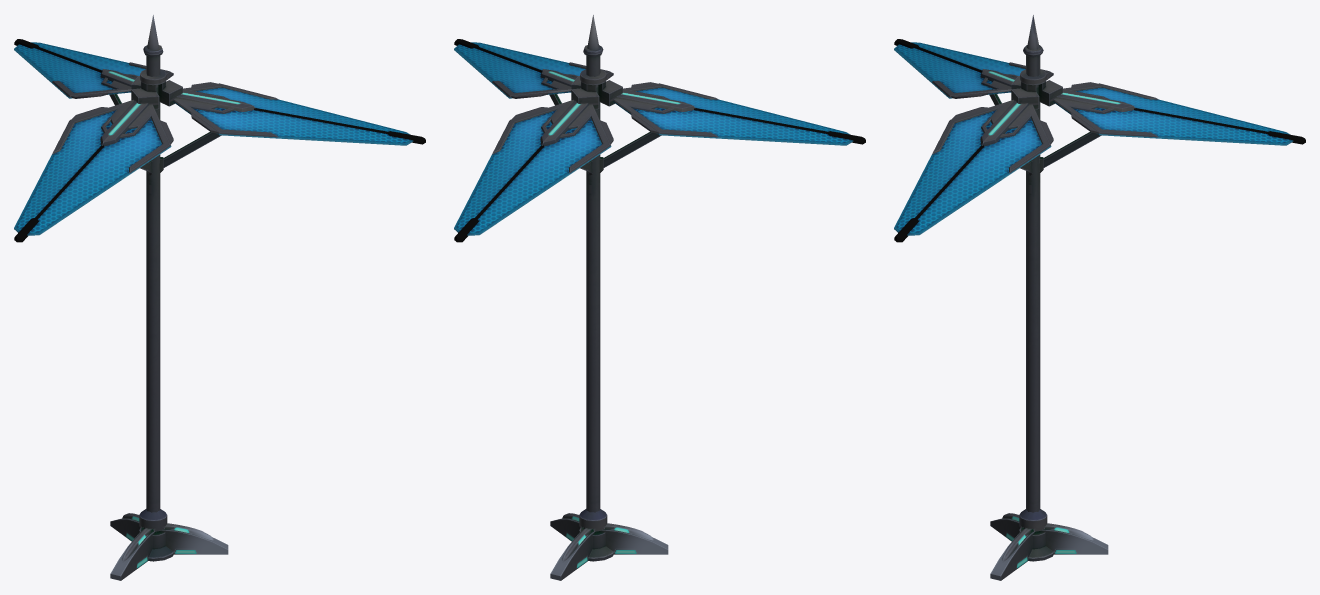
The model's file is mesh_214_zhucheng_tywj001.FBX.
The picture shows the model from 3 angles, left to right: view 1: azimuth 30°, elevation 25°; view 2: azimuth 150°, elevation 25°; view 3: azimuth 270°, elevation 25°; orthographic projection.
Visible parts, largest first — view 1: mesh_214_zhucheng_tywj001; view 2: mesh_214_zhucheng_tywj001; view 3: mesh_214_zhucheng_tywj001.
Part boxes in pixels (x1=…): mesh_214_zhucheng_tywj001: x1=14, y1=15, x2=425, y2=580; mesh_214_zhucheng_tywj001: x1=454, y1=15, x2=865, y2=580; mesh_214_zhucheng_tywj001: x1=894, y1=15, x2=1305, y2=580.
Size of the model in its own units: 537 by 675 by 469.
